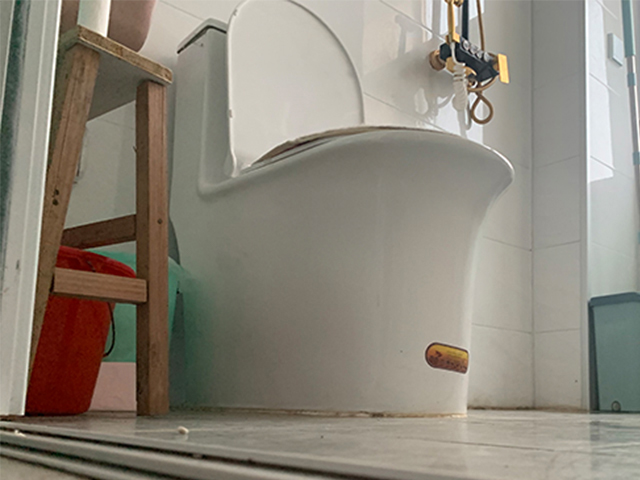closestool: (166, 1, 517, 416)
stool: (32, 24, 174, 416)
